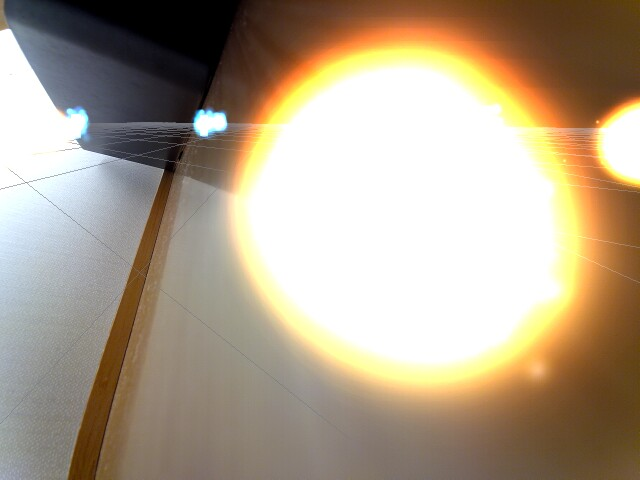firebig: (233, 41, 584, 395)
